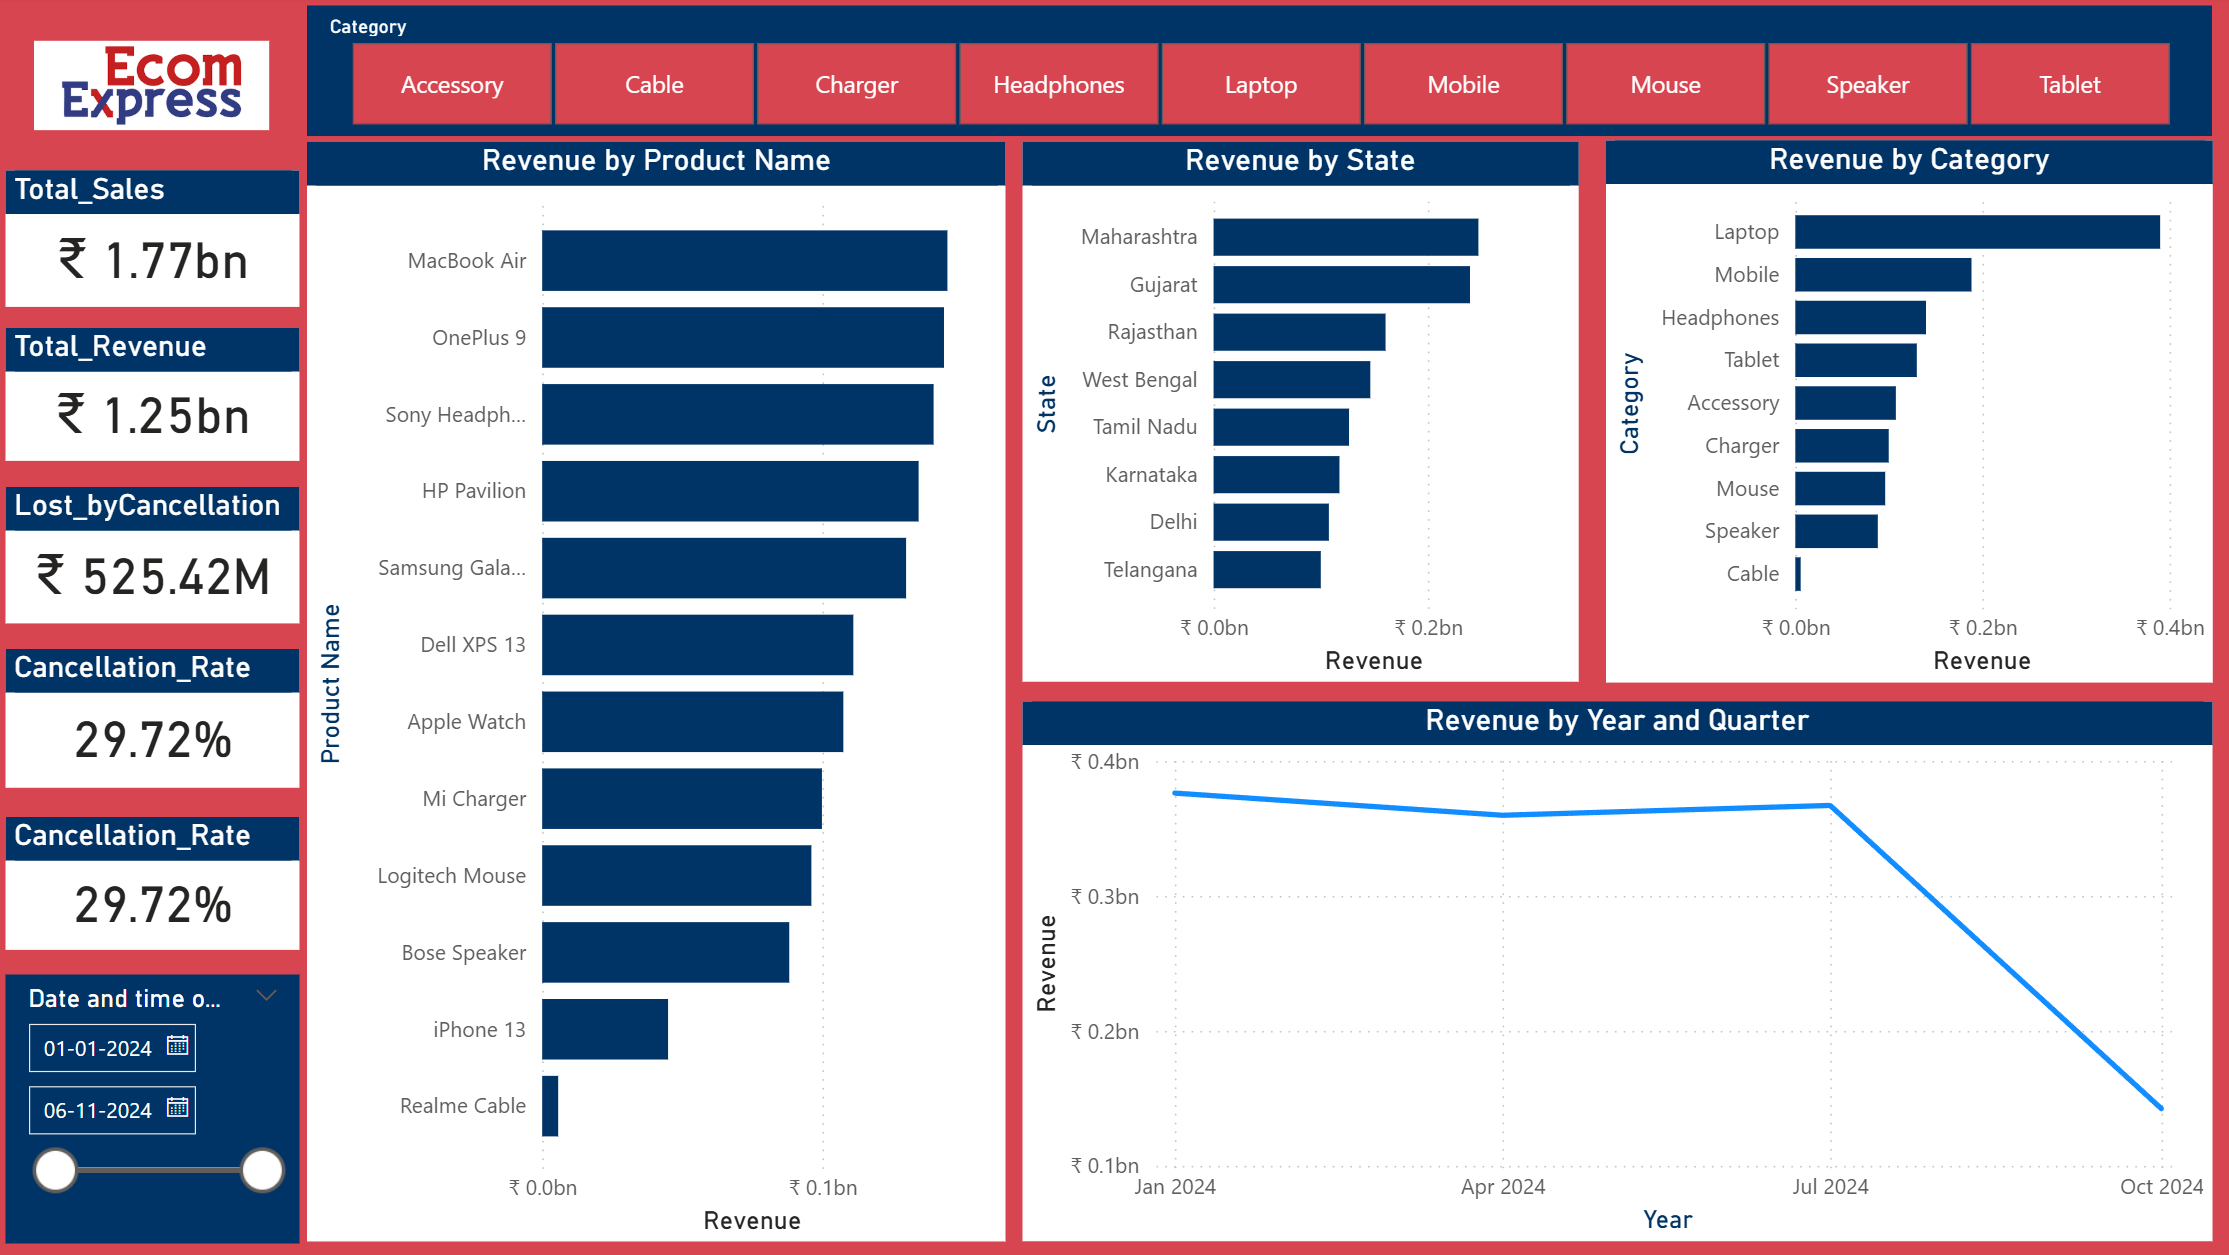

What the dashboard file says about the page in this screenshot:
{"tool":"powerbi","page":{"name":"Page 1","canvas":[1280,720],"ordinal":0},"visuals":[{"type":"barChart","fields":{"Category":["Products.Category"],"Y":["Table.Revenue"]},"box":[913.1,82.3,344.1,307.1],"z":0},{"type":"barChart","fields":{"Category":["Products.Product Name"],"Y":["Table.Revenue"]},"box":[177.3,83.4,396.3,623.4],"z":1000},{"type":"lineChart","fields":{"Category":["Orders.Date and time of purchase.Variation.Date Hierarchy.Year","Orders.Date and time of purchase.Variation.Date Hierarchy.Quarter","Orders.Date and time of purchase.Variation.Date Hierarchy.Month","Orders.Date and time of purchase.Variation.Date Hierarchy.Day"],"Y":["Table.Revenue"]},"box":[582.8,400.9,674.4,305.9],"z":2000},{"type":"barChart","fields":{"Category":["Customers.State"],"Y":["Table.Revenue"]},"box":[582.8,83.4,315.2,305.9],"z":3000},{"type":"card","title":"Total_Sales","fields":{"Values":["Table.sales"]},"box":[5.8,99.7,166.9,77.6],"z":4000},{"type":"card","title":"Total_Revenue","fields":{"Values":["Table.Revenue"]},"box":[5.8,188.9,166.9,75.3],"z":5000},{"type":"card","title":"Lost_byCancellation","fields":{"Values":["Table.lost_rev_cancellation"]},"box":[5.8,279.3,166.9,77.6],"z":6000},{"type":"card","title":"Cancellation_Rate","fields":{"Values":["Table.Cancellation_Rate"]},"box":[5.8,370.8,166.9,78.8],"z":7000},{"type":"card","title":"Cancellation_Rate","fields":{"Values":["Table.Cancellation_Rate"]},"box":[5.8,465.8,166.9,75.3],"z":8000},{"type":"slicer","fields":{"Values":["Orders.Date and time of purchase"]},"box":[5.8,555,166.9,151.8],"z":9000},{"type":"slicer","fields":{"Values":["Products.Category"]},"box":[177.3,5.8,1079.9,74.2],"z":10000},{"type":"image","box":[22,5.8,133.3,90.4],"z":11000}]}

Visuals, with their boxes in screenshot pixels (x1, y1, x2, y2), scaled from the page's 1280x720 canvas onto the 2229x1255 screenshot:
barChart - Products.Category x Table.Revenue: detection(1590, 143, 2189, 679)
barChart - Products.Product Name x Table.Revenue: detection(309, 145, 999, 1232)
lineChart - Orders.Date and time of purchase.Variation.Date Hierarchy.Year x Orders.Date and time of purchase.Variation.Date Hierarchy.Quarter: detection(1015, 699, 2189, 1232)
barChart - Customers.State x Table.Revenue: detection(1015, 145, 1564, 679)
"Total_Sales" card: detection(10, 174, 301, 309)
"Total_Revenue" card: detection(10, 329, 301, 461)
"Lost_byCancellation" card: detection(10, 487, 301, 622)
"Cancellation_Rate" card: detection(10, 646, 301, 784)
"Cancellation_Rate" card: detection(10, 812, 301, 943)
slicer - Orders.Date and time of purchase: detection(10, 967, 301, 1232)
slicer - Products.Category: detection(309, 10, 2189, 139)
image: detection(38, 10, 270, 168)
